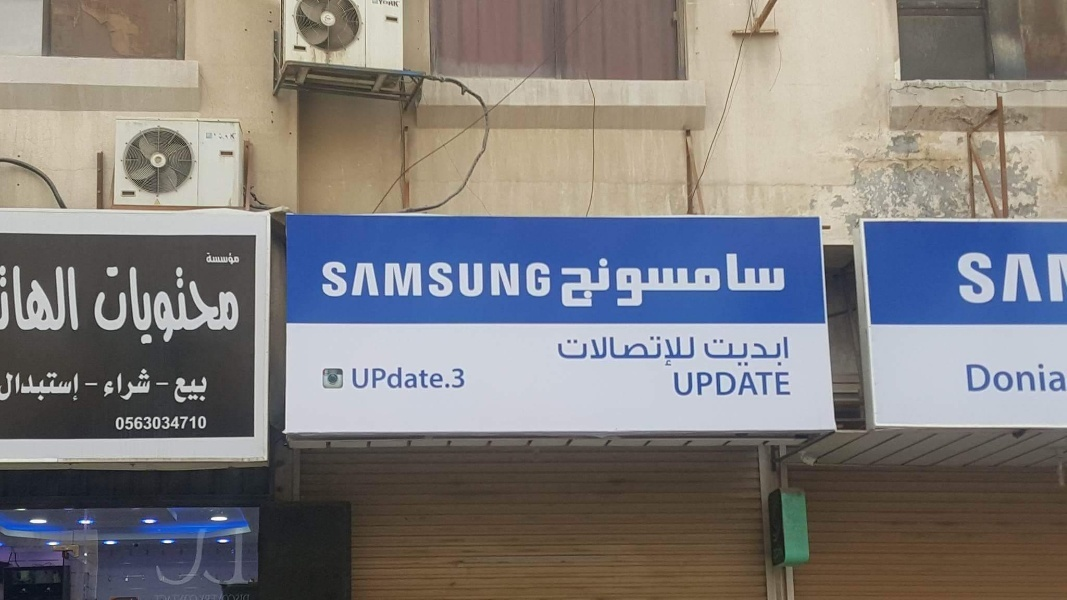text: (97, 264, 112, 345), (113, 264, 128, 345), (129, 264, 144, 345), (145, 264, 160, 345), (161, 264, 176, 345), (177, 264, 192, 345), (193, 264, 208, 345), (209, 264, 224, 345), (1, 259, 16, 338), (17, 259, 32, 338), (33, 259, 48, 338), (49, 259, 64, 338), (65, 259, 80, 338), (225, 264, 239, 345), (961, 249, 976, 307), (977, 249, 992, 307), (993, 249, 1008, 307), (1009, 249, 1024, 307), (1025, 249, 1040, 307), (1041, 249, 1056, 307), (561, 252, 576, 309), (577, 252, 592, 309), (593, 252, 608, 309), (609, 252, 624, 309), (625, 252, 640, 309), (641, 252, 656, 309), (657, 252, 672, 309), (673, 252, 688, 309), (689, 252, 704, 309), (705, 252, 720, 309), (721, 252, 736, 309), (737, 252, 752, 309), (753, 252, 768, 309), (769, 252, 784, 309), (321, 259, 336, 303), (337, 259, 352, 303), (353, 259, 368, 303), (369, 259, 384, 303), (385, 259, 400, 303), (401, 259, 416, 303), (417, 259, 432, 303), (433, 259, 448, 303), (449, 259, 464, 303), (465, 259, 480, 303), (481, 259, 496, 303), (497, 259, 512, 303), (513, 259, 528, 303), (529, 259, 544, 303), (17, 370, 32, 406), (33, 370, 48, 406), (49, 370, 64, 406), (65, 370, 80, 406), (1057, 249, 1066, 307), (561, 334, 576, 368), (577, 334, 592, 368), (593, 334, 608, 368), (609, 334, 624, 368), (625, 334, 640, 368), (641, 334, 656, 368), (657, 334, 672, 368), (673, 334, 688, 368), (113, 368, 128, 402), (129, 368, 144, 402), (2, 370, 16, 406), (977, 360, 992, 393), (993, 360, 1008, 393), (1009, 360, 1024, 393), (1025, 360, 1040, 393), (1041, 360, 1056, 393), (705, 336, 720, 368), (721, 336, 736, 368), (737, 336, 752, 368), (753, 336, 768, 368), (769, 336, 784, 368), (193, 376, 209, 404), (177, 376, 192, 404), (673, 370, 688, 397), (689, 370, 704, 397), (705, 370, 720, 397), (721, 370, 736, 397), (737, 370, 752, 397), (753, 370, 768, 397), (769, 370, 784, 397), (353, 367, 368, 392), (369, 367, 384, 392), (385, 367, 400, 392), (401, 367, 416, 392), (417, 367, 432, 392), (433, 367, 448, 392), (449, 367, 464, 392), (545, 259, 553, 303), (966, 360, 976, 393), (1057, 360, 1066, 393), (689, 334, 697, 368), (104, 368, 112, 402), (129, 416, 144, 432), (145, 416, 160, 432), (161, 416, 176, 432), (177, 416, 192, 432), (193, 416, 208, 432), (145, 368, 152, 402), (209, 252, 224, 267), (225, 252, 240, 267), (785, 370, 792, 397), (117, 416, 128, 432), (94, 264, 96, 345), (785, 336, 790, 368), (385, 1, 400, 10), (958, 249, 960, 307), (785, 252, 787, 309), (372, 1, 384, 10), (161, 592, 176, 599), (177, 592, 192, 599), (193, 592, 208, 599), (209, 592, 224, 599), (225, 592, 240, 599), (241, 592, 253, 599), (81, 259, 82, 338), (82, 382, 96, 387), (558, 334, 560, 368), (152, 592, 160, 599), (319, 259, 320, 303), (161, 382, 171, 386), (81, 370, 82, 406), (206, 252, 208, 267), (465, 367, 466, 392), (154, 382, 160, 386), (401, 1, 402, 10), (97, 382, 98, 387)
